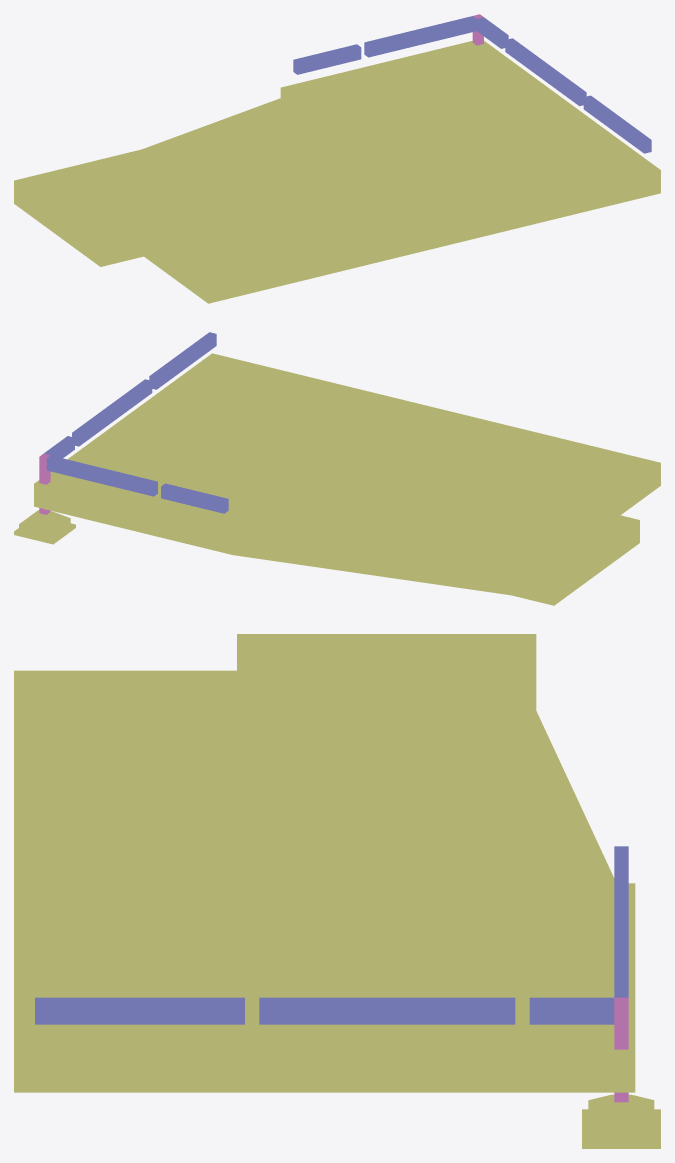
The picture shows the model from 3 angles, top to bottom: view 1: azimuth 30°, elevation 25°; view 2: azimuth 150°, elevation 25°; view 3: azimuth 270°, elevation 25°; orthographic projection. The views are drawn at different scales.
Size of the model in its own units: 15.4 by 2.2 by 9.81.
